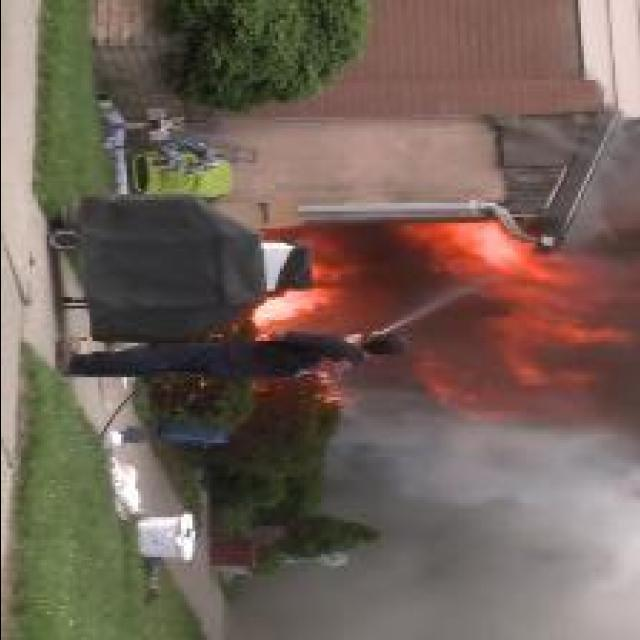Fire: (249, 223, 637, 423)
